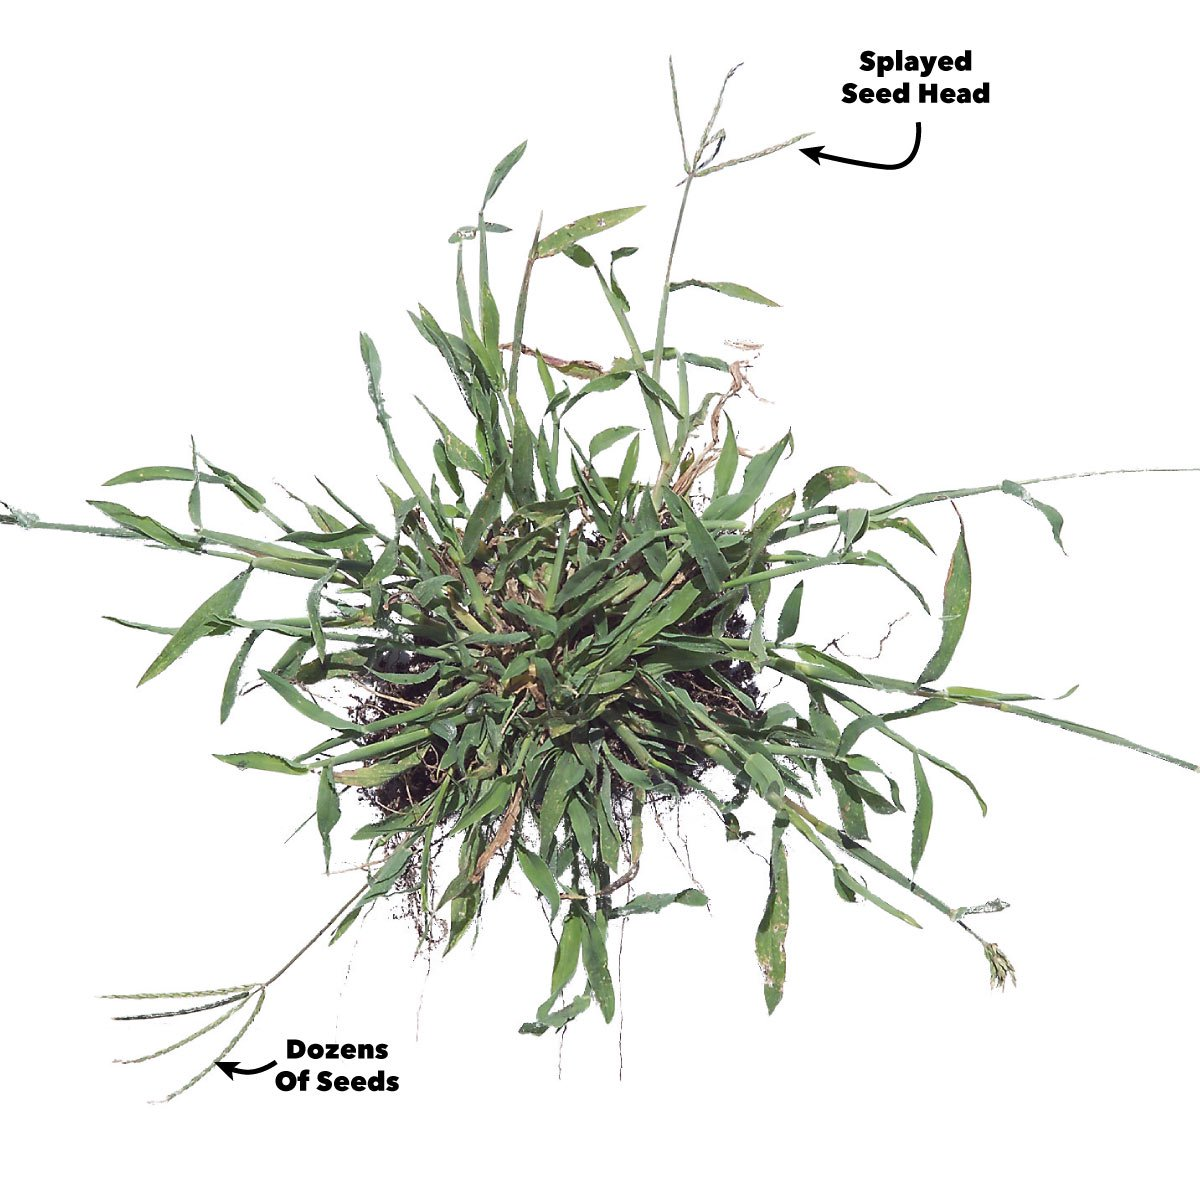crabgrass: (70, 199, 1099, 1059)
